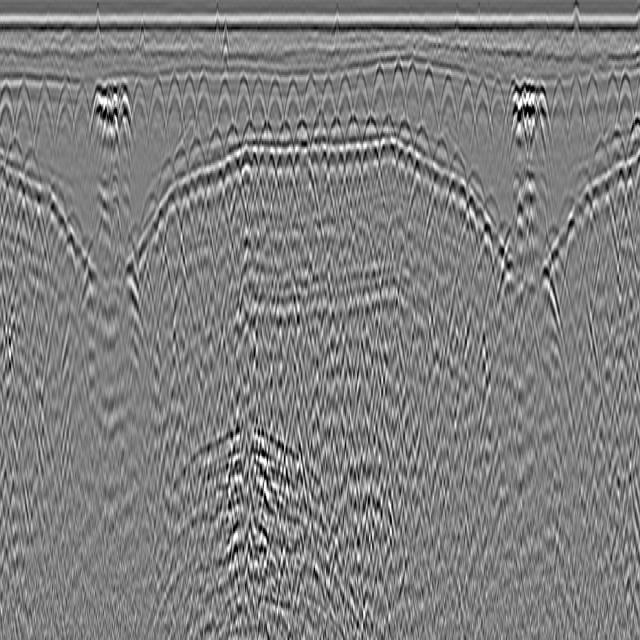hyperbola: (52, 61, 74, 166), (31, 64, 55, 156), (144, 68, 165, 166), (71, 71, 92, 166), (471, 68, 491, 161), (489, 68, 508, 158), (12, 74, 34, 151), (192, 62, 215, 135), (130, 71, 148, 161), (164, 61, 181, 156), (388, 55, 406, 143), (179, 68, 197, 150), (439, 71, 458, 148), (583, 68, 602, 145), (213, 68, 234, 135), (457, 71, 475, 148), (530, 93, 550, 161), (600, 68, 618, 143), (370, 55, 390, 122), (404, 55, 422, 128), (234, 58, 250, 140), (550, 74, 568, 146), (617, 68, 634, 143), (266, 68, 284, 138), (568, 68, 583, 150), (422, 58, 439, 130), (336, 61, 353, 130), (302, 68, 320, 132), (117, 77, 132, 153), (319, 58, 336, 125), (352, 61, 369, 128), (0, 74, 13, 161), (251, 68, 267, 135), (512, 103, 527, 161), (285, 71, 300, 128)
